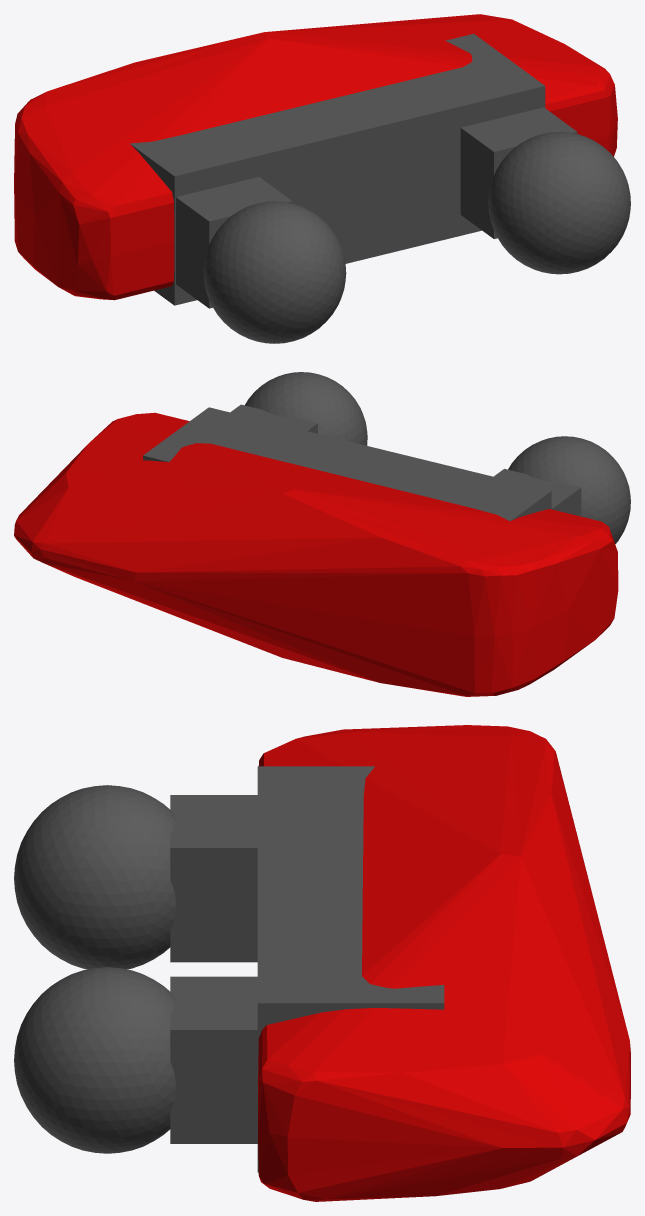
Rendered from gripper-5.obj.
3 views of the same model, one above another, from view 1: azimuth 30°, elevation 25°; view 2: azimuth 150°, elevation 25°; view 3: azimuth 270°, elevation 25° (orthographic). The views are drawn at different scales.
Bounding box in the file's own units: 0.2044 × 0.0633 × 0.1519.
